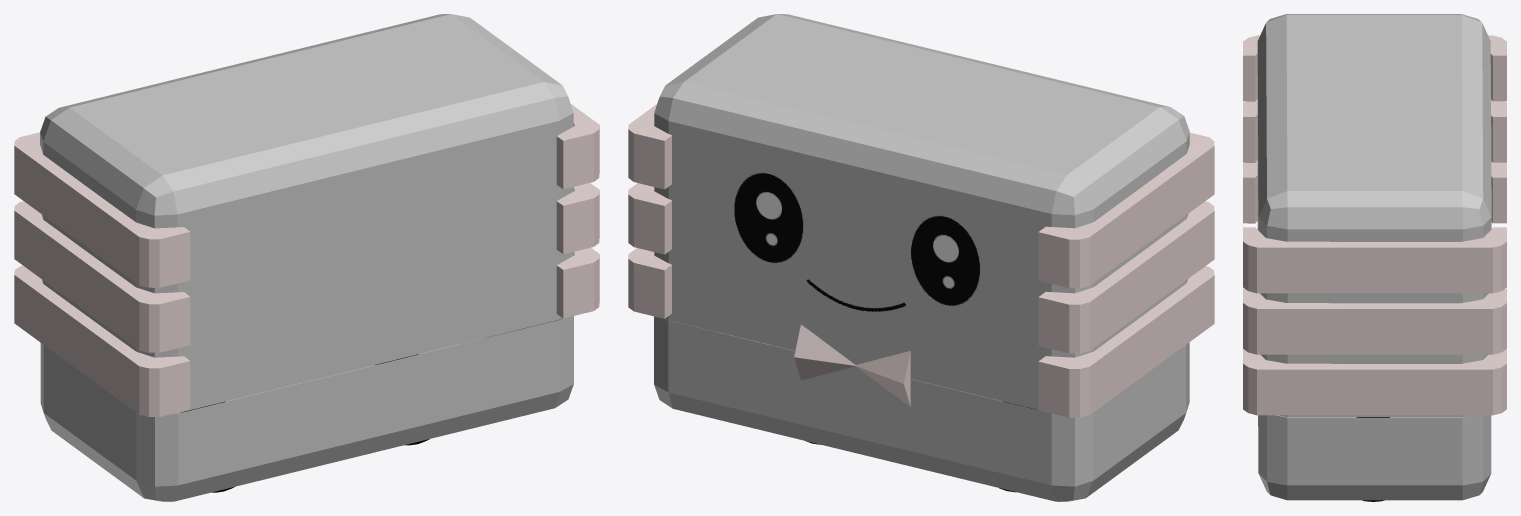
The model's file is cubey-495d68a6.glb.
3 views of the same model, side by side, from view 1: azimuth 30°, elevation 25°; view 2: azimuth 150°, elevation 25°; view 3: azimuth 270°, elevation 25° (orthographic). The views are drawn at different scales.
Parts seen in each view (by area): view 1: upper-body, lower-body, accent_r1, accent_r2, accent_r3, accent_l1, accent_l2, accent_l3; view 2: upper-body, lower-body, accent_r1, accent_r2, accent_r3, accent_l1, accent_l2, accent_l3, bowtie_l, bowtie_r; view 3: upper-body, lower-body, accent_l1, accent_l3, accent_l2, accent_r1, accent_r2, accent_r3.
Part boxes in pixels (<box>): upper-body: <box>40,14,573,413</box>; lower-body: <box>40,316,573,501</box>; accent_r1: <box>14,132,190,287</box>; accent_r2: <box>14,201,190,352</box>; accent_r3: <box>14,265,190,416</box>; accent_l1: <box>556,104,599,189</box>; accent_l2: <box>556,183,599,254</box>; accent_l3: <box>556,247,599,318</box>; upper-body: <box>654,14,1189,409</box>; lower-body: <box>654,316,1189,501</box>; accent_r1: <box>1038,132,1214,288</box>; accent_r2: <box>1038,201,1214,353</box>; accent_r3: <box>1038,266,1214,417</box>; accent_l1: <box>628,104,671,189</box>; accent_l2: <box>628,183,671,254</box>; accent_l3: <box>628,248,671,318</box>; bowtie_l: <box>794,324,855,380</box>; bowtie_r: <box>855,351,910,406</box>; upper-body: <box>1257,14,1491,416</box>; lower-body: <box>1258,415,1491,500</box>; accent_l1: <box>1243,227,1506,293</box>; accent_l3: <box>1243,349,1506,415</box>; accent_l2: <box>1243,288,1506,354</box>; accent_r1: <box>1243,35,1506,101</box>; accent_r2: <box>1243,99,1506,162</box>; accent_r3: <box>1243,160,1506,223</box>.
Bounding box in the file's own units: 2.96 × 2.27 × 1.55.
Materials: 4 (1 with a texture image).
